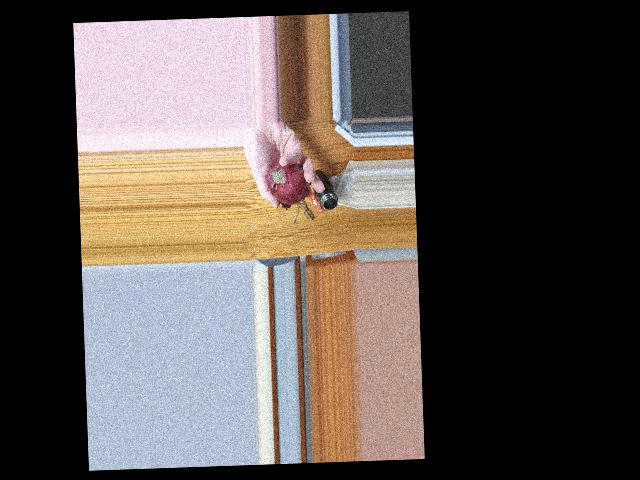onion: (263, 158, 307, 202)
